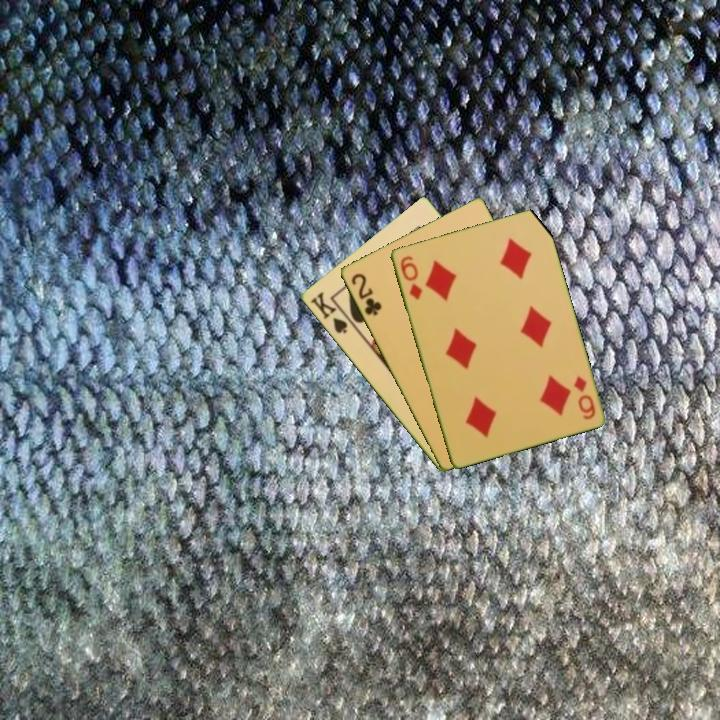2c: (347, 269, 384, 319)
6d: (396, 252, 425, 302), (570, 372, 598, 422)
Ks: (306, 288, 356, 337)
